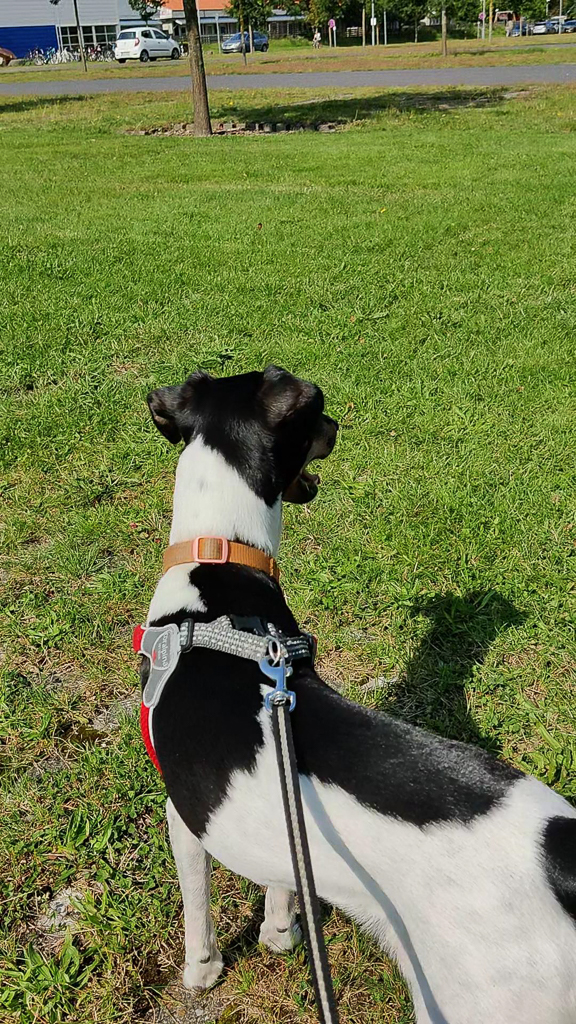Dog: (72, 344, 576, 1024)
